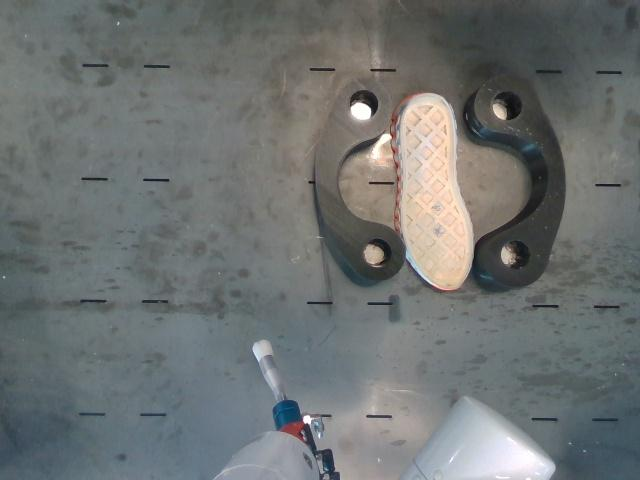shoes: (404, 94, 473, 289)
